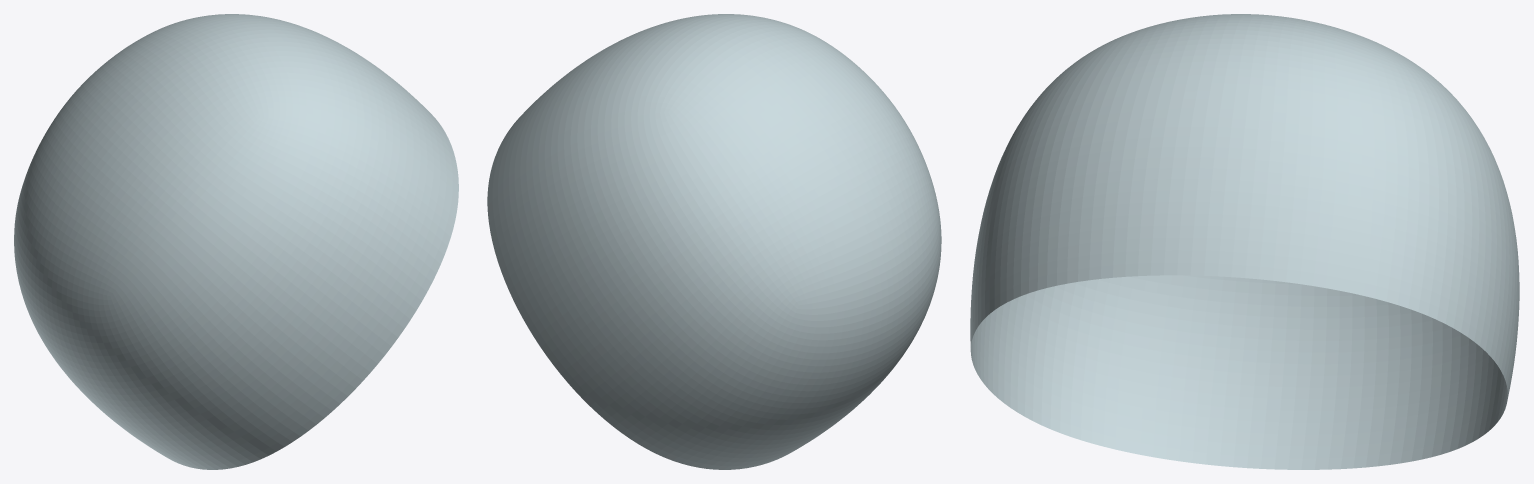
File: egg001.fbx
3 renders of one model, left to right at view 1: azimuth 30°, elevation 25°; view 2: azimuth 150°, elevation 25°; view 3: azimuth 270°, elevation 25°, orthographic. The views are drawn at different scales.
Visible parts, largest first — view 1: egg001; view 2: egg001; view 3: egg001.
Boxes of the visible parts, bbox=[...] form: egg001: bbox=[14, 14, 458, 469]; egg001: bbox=[487, 14, 941, 469]; egg001: bbox=[970, 14, 1519, 469].
Size of the model in its own units: 38.83 by 38.99 by 39.78.
